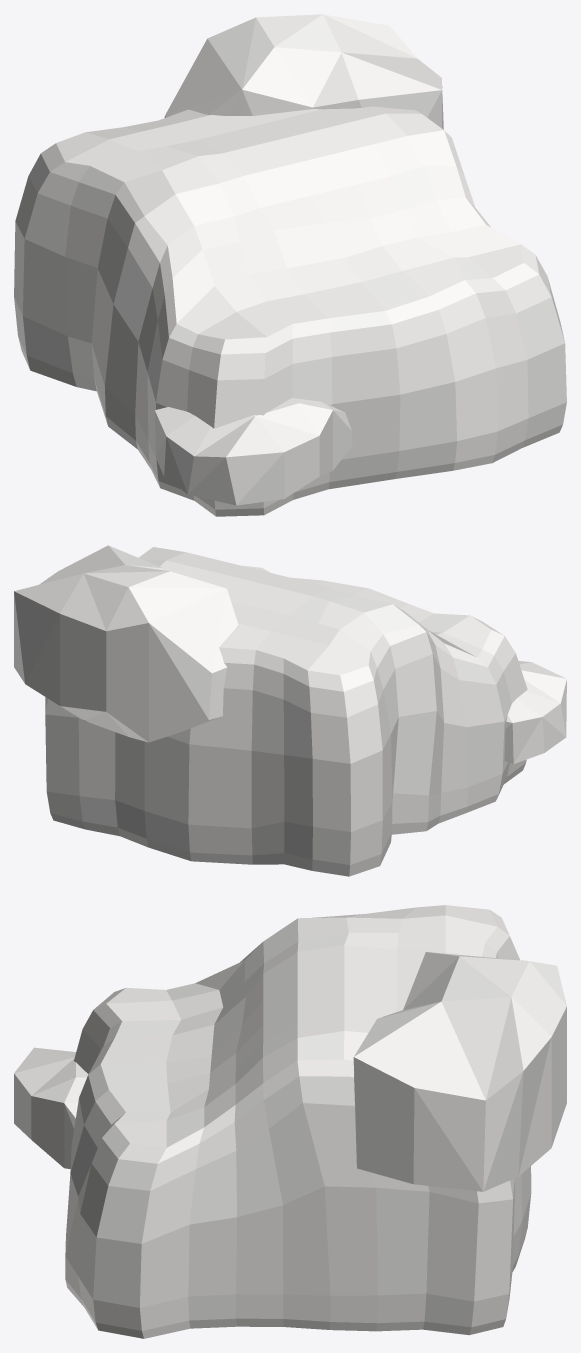
Rendered from Isl_10_Base.fbx.
The picture shows the model from 3 angles, top to bottom: view 1: azimuth 30°, elevation 25°; view 2: azimuth 150°, elevation 25°; view 3: azimuth 270°, elevation 25°; orthographic projection. The views are drawn at different scales.
Parts seen in each view (by area): view 1: Isl_10_Base; view 2: Isl_10_Base; view 3: Isl_10_Base.
Boxes of the visible parts, bbox=[...] form: Isl_10_Base: bbox=[14, 14, 566, 516]; Isl_10_Base: bbox=[14, 545, 566, 876]; Isl_10_Base: bbox=[14, 905, 566, 1338].
Bounding box in the file's own units: 2354 × 2446 × 1544.
1 material, 1 textured.
